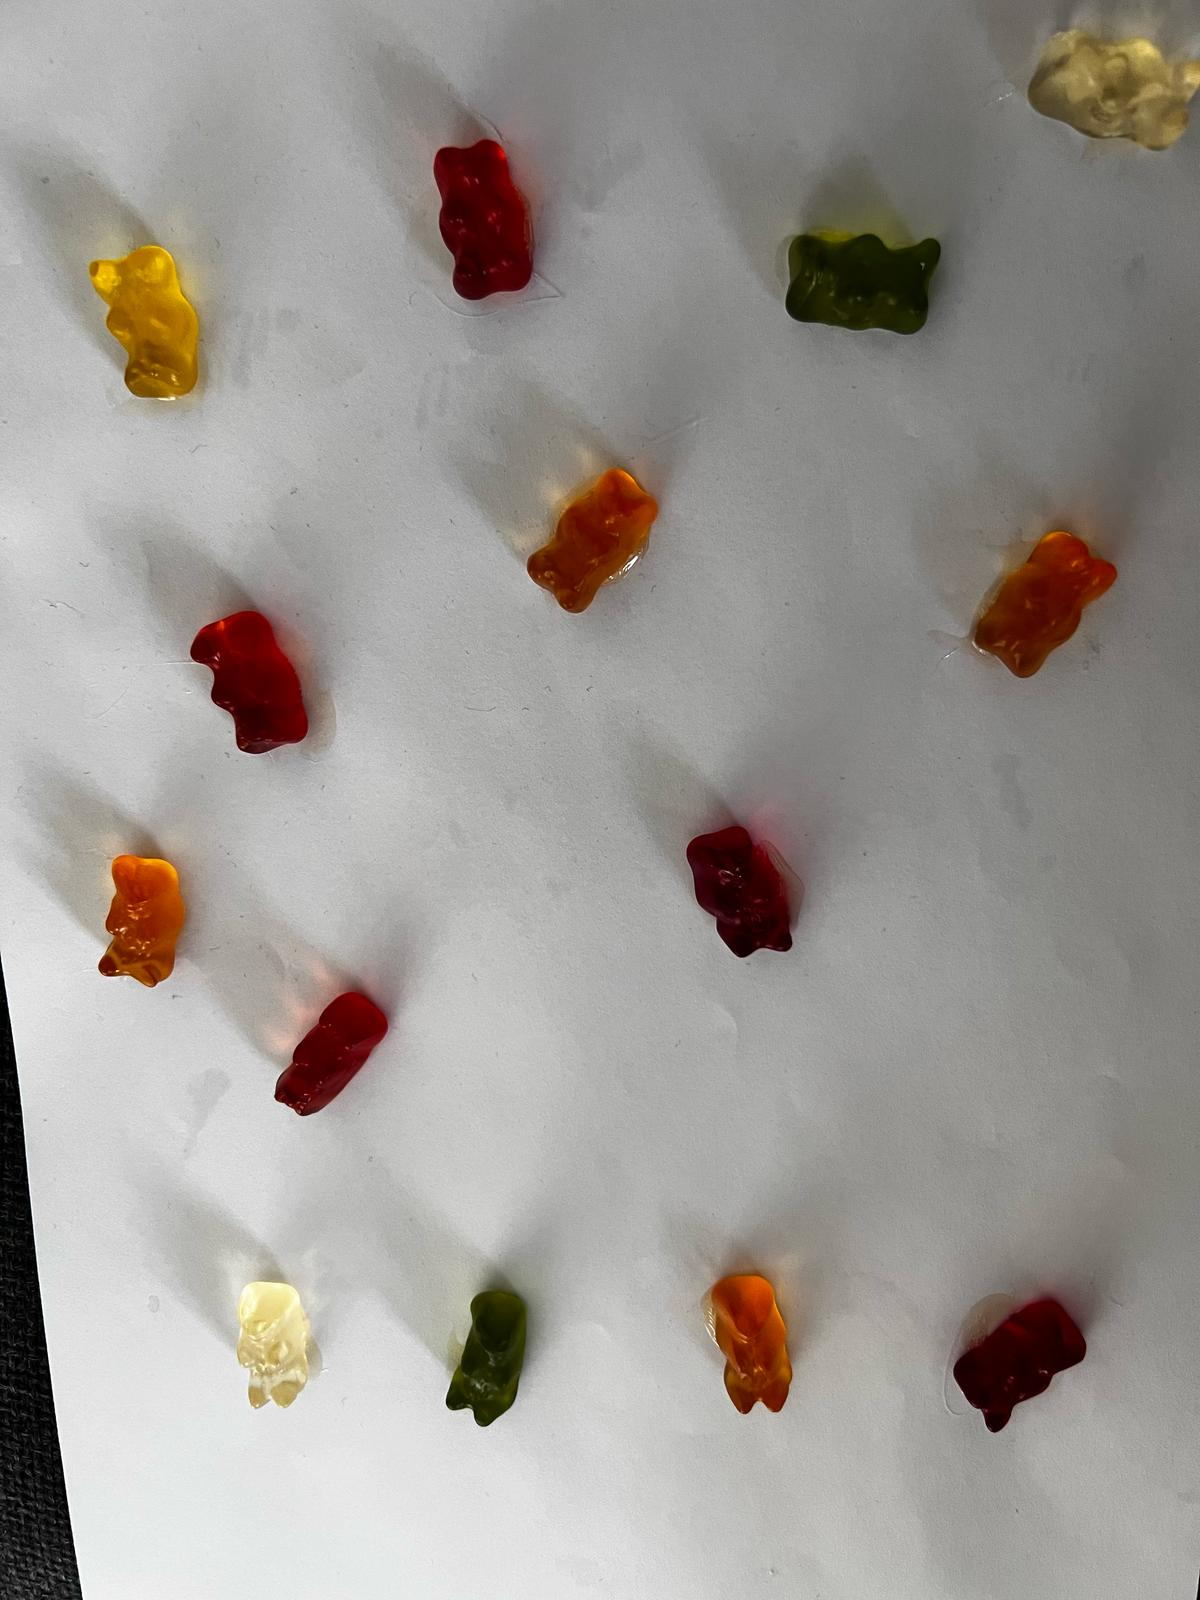gummybear: (505, 459, 668, 626), (78, 232, 224, 414), (972, 519, 1123, 690), (1020, 19, 1200, 151), (945, 1284, 1095, 1435), (185, 605, 326, 758), (679, 818, 816, 965), (773, 233, 955, 338), (430, 137, 539, 300), (275, 983, 393, 1133), (695, 1267, 807, 1420), (434, 1284, 534, 1432), (93, 850, 194, 993), (226, 1277, 321, 1419)
